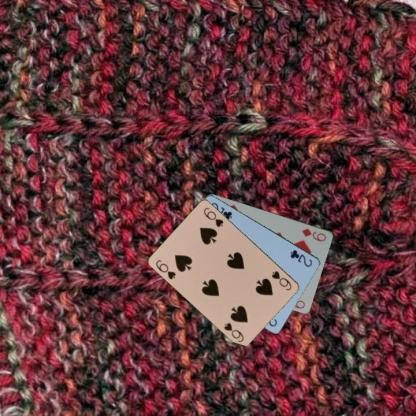2c: (288, 247, 314, 268)
6s: (269, 268, 294, 292), (154, 257, 177, 281)
9d: (299, 226, 328, 243)
